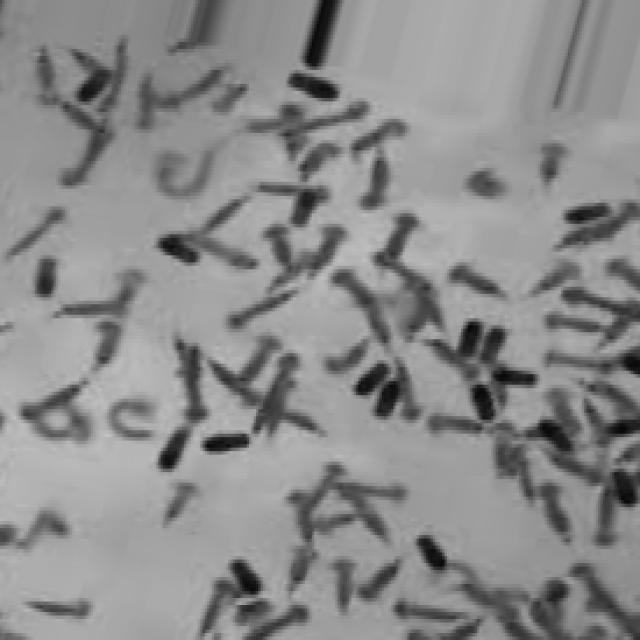larvas: (578, 561, 640, 639), (250, 351, 300, 435), (280, 98, 370, 144), (156, 61, 223, 108), (152, 145, 214, 194), (207, 358, 262, 410), (347, 117, 411, 161), (14, 206, 61, 258), (422, 532, 475, 578), (25, 376, 84, 417), (64, 135, 112, 184), (179, 233, 255, 263), (254, 598, 307, 640), (337, 266, 381, 316), (265, 375, 295, 445), (232, 291, 290, 327), (17, 512, 72, 548), (397, 286, 432, 342), (198, 192, 246, 232), (564, 285, 629, 314), (360, 558, 403, 601), (268, 250, 312, 292), (111, 399, 159, 437), (73, 46, 108, 98), (585, 376, 638, 410), (590, 199, 638, 236), (543, 482, 570, 545), (380, 253, 430, 286), (30, 593, 88, 620), (61, 296, 126, 320), (365, 152, 391, 211), (109, 37, 132, 103), (247, 105, 301, 133), (283, 406, 326, 441), (546, 454, 596, 484), (299, 144, 344, 176), (454, 266, 501, 296), (603, 301, 640, 339), (209, 579, 233, 636), (548, 382, 576, 430), (546, 352, 616, 371), (385, 216, 416, 258), (265, 181, 330, 201), (186, 339, 202, 420), (31, 417, 92, 438), (334, 554, 355, 615), (535, 261, 575, 293), (530, 605, 566, 640), (438, 342, 476, 375), (399, 356, 419, 418), (94, 321, 124, 362), (316, 227, 340, 277), (394, 606, 464, 623), (167, 476, 196, 516), (546, 311, 601, 332), (314, 460, 344, 498), (467, 589, 514, 613), (246, 342, 278, 377), (342, 483, 407, 500), (330, 339, 366, 369), (411, 625, 482, 640), (473, 160, 501, 198), (357, 502, 385, 540), (494, 419, 512, 478), (500, 612, 536, 640), (238, 596, 276, 622), (580, 396, 604, 437), (285, 549, 312, 585), (268, 224, 289, 270), (136, 74, 154, 126), (37, 50, 55, 102), (216, 84, 247, 114), (543, 578, 568, 615), (431, 415, 482, 433), (61, 102, 99, 126), (612, 257, 637, 290), (493, 367, 535, 386), (541, 142, 560, 182), (294, 492, 312, 534), (598, 494, 612, 546), (117, 273, 138, 305), (489, 588, 533, 602), (319, 512, 355, 528), (522, 466, 537, 502)
